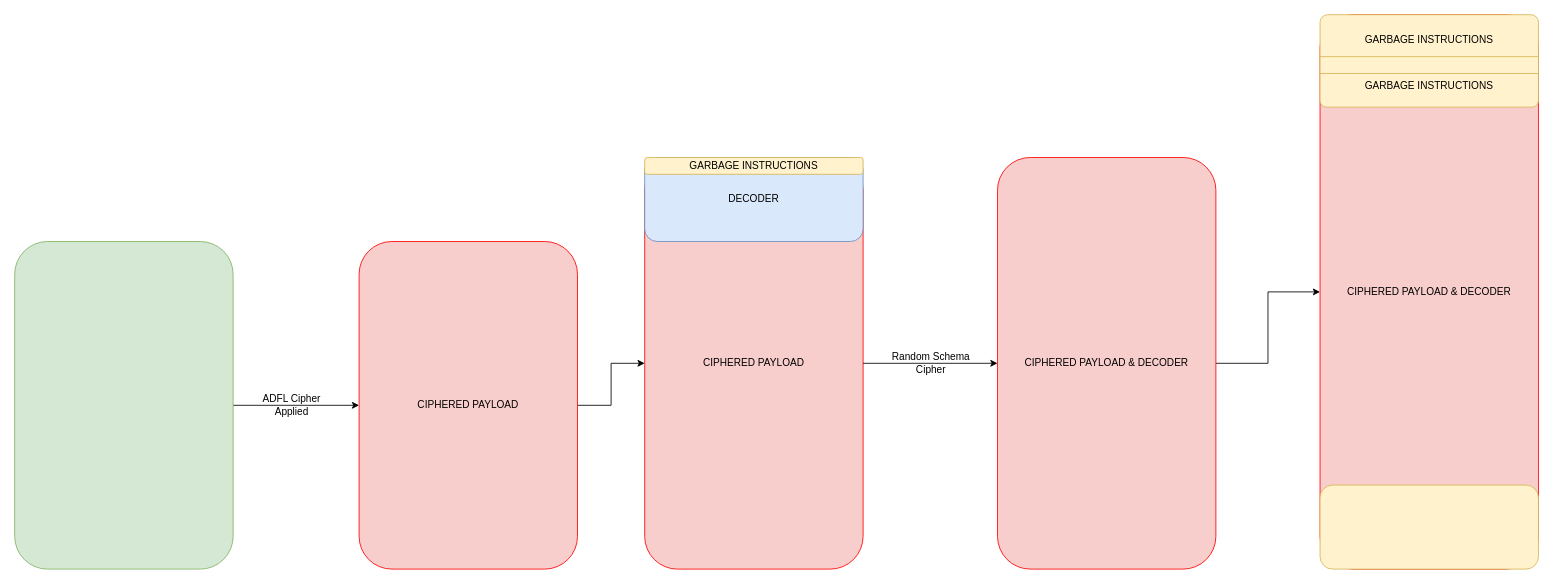
Some shapes in this 1553 by 584 pixel diagram are drawn without their labels. Each missing label, with the centre of its shape:
"CALL SCHEMA DECODER" goes at (1428,65).
"GARBAGE & SCHEMA DECODER" goes at (1428,526).
"PAYLOAD" goes at (123,405).
